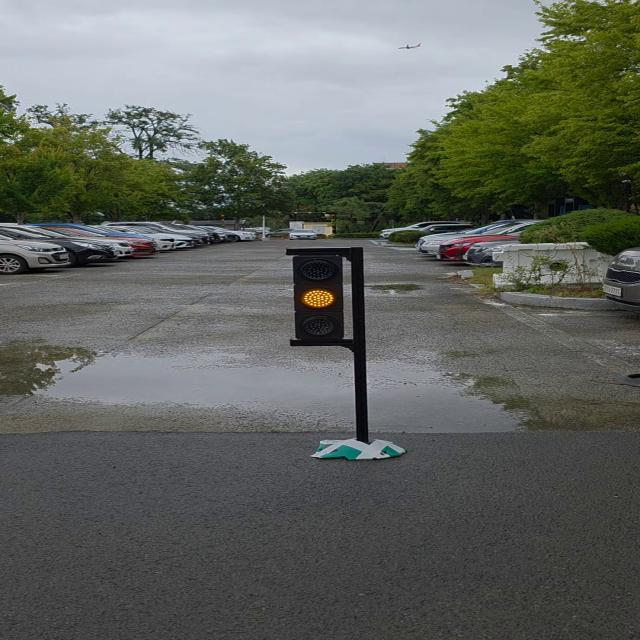yellow: (289, 248, 352, 342)
